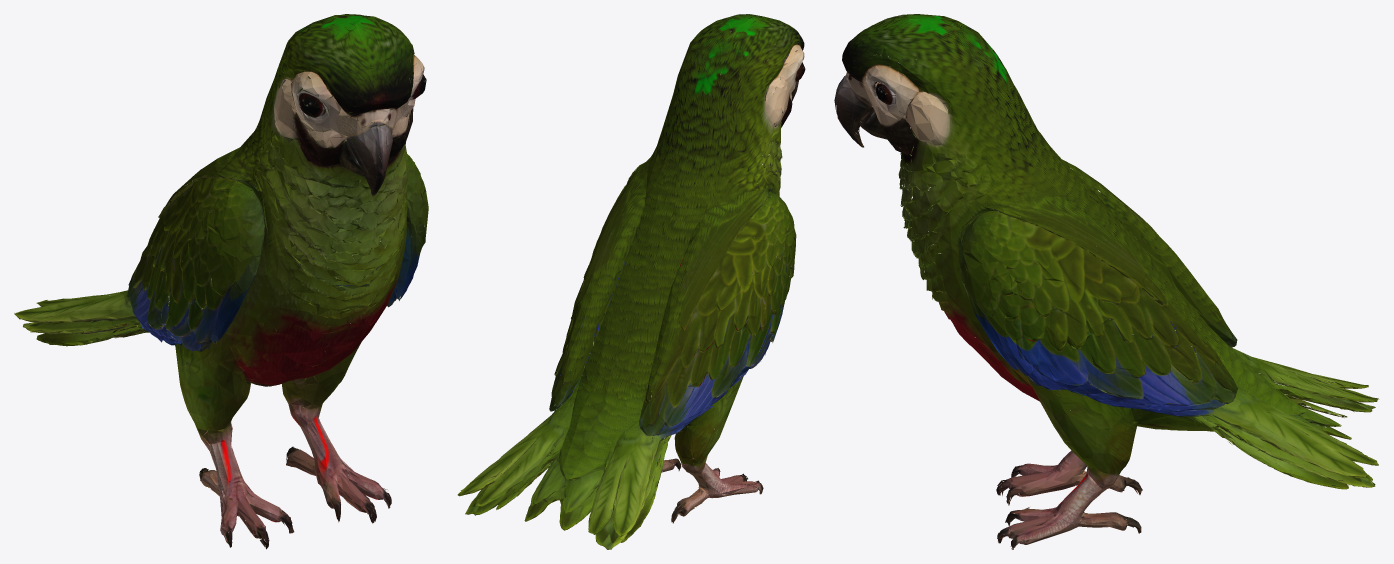
File: canario.fbx
The picture shows the model from 3 angles, left to right: view 1: azimuth 30°, elevation 25°; view 2: azimuth 150°, elevation 25°; view 3: azimuth 270°, elevation 25°; orthographic projection. The views are drawn at different scales.
Visible parts, largest first — view 1: pajaro; view 2: pajaro; view 3: pajaro.
Part boxes in pixels (box(x1,y1,x2,y2)): pajaro: box(14, 14, 428, 549); pajaro: box(457, 14, 805, 549); pajaro: box(834, 14, 1378, 549).
Bounding box in the file's own units: 0.8488 × 1.99 × 1.98.
1 material, 1 textured.
